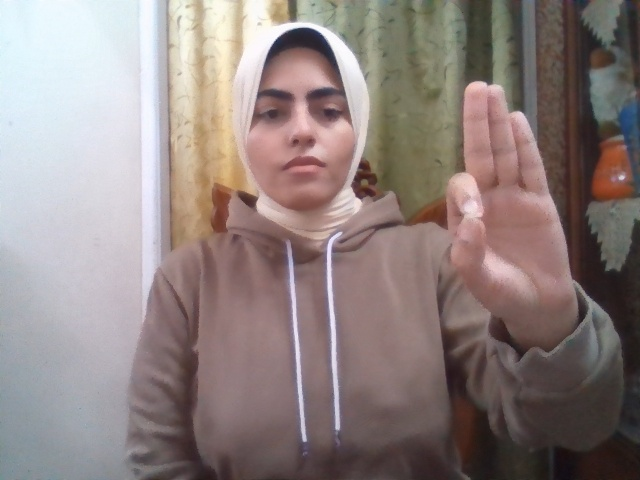F: (445, 81, 577, 308)
